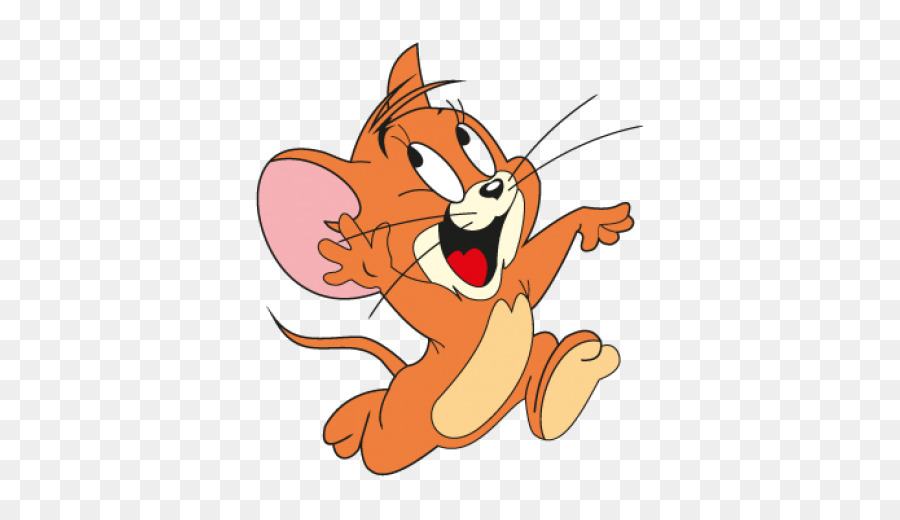jerry: (253, 40, 634, 477)
